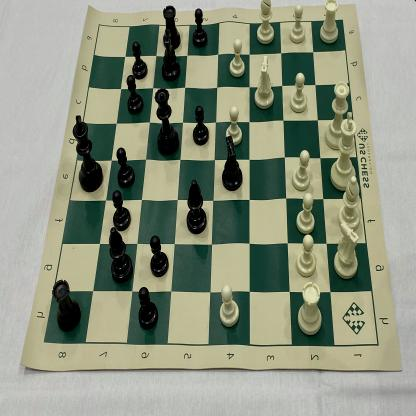black-bishop: (108, 222, 134, 284), (186, 178, 208, 235)
black-king: (71, 111, 104, 193)
black-knight: (219, 137, 247, 192), (160, 27, 183, 81)
black-pawn: (137, 286, 159, 334), (149, 234, 171, 277), (116, 145, 136, 190), (111, 189, 132, 231), (192, 104, 211, 146), (191, 7, 209, 50), (126, 75, 144, 115), (131, 41, 147, 80)
black-queen: (156, 86, 180, 154)
black-rook: (54, 275, 81, 331), (160, 4, 184, 51)
white-bishop: (338, 174, 364, 230), (256, 0, 275, 47)
white-king: (329, 110, 360, 192)
white-knight: (333, 221, 361, 281), (253, 54, 276, 111)
white-pawn: (218, 282, 241, 330), (295, 232, 317, 279), (291, 149, 314, 189), (296, 190, 316, 234), (228, 36, 248, 79), (288, 2, 308, 45), (289, 72, 309, 113), (226, 104, 243, 147)
white-queen: (324, 79, 352, 152)
white-rook: (298, 277, 324, 335), (318, 0, 342, 44)
